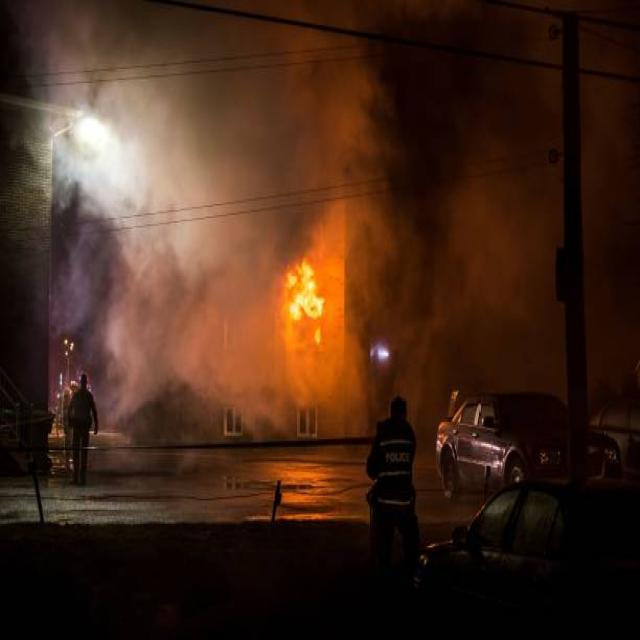Fire: (248, 252, 358, 360)
Smoke: (75, 3, 640, 331)
